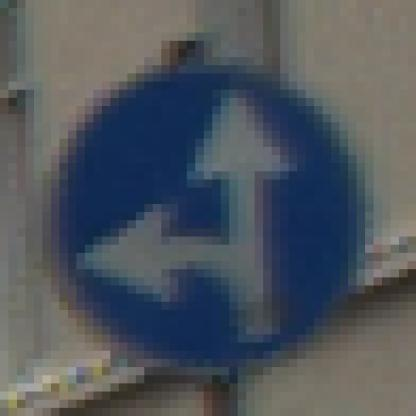Straight or Left: (44, 50, 366, 368)
